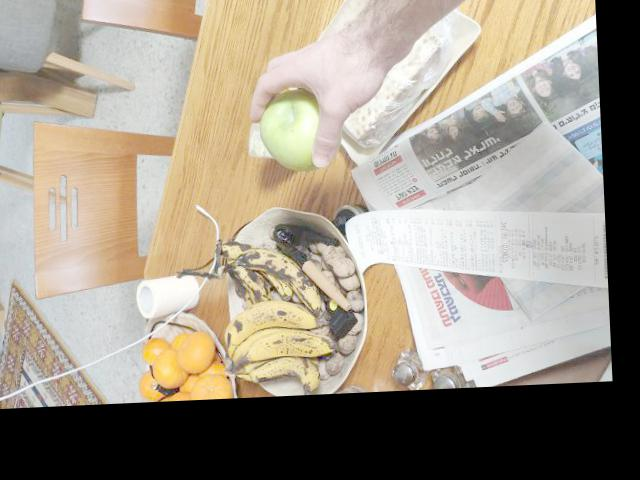apple: (247, 74, 338, 170)
